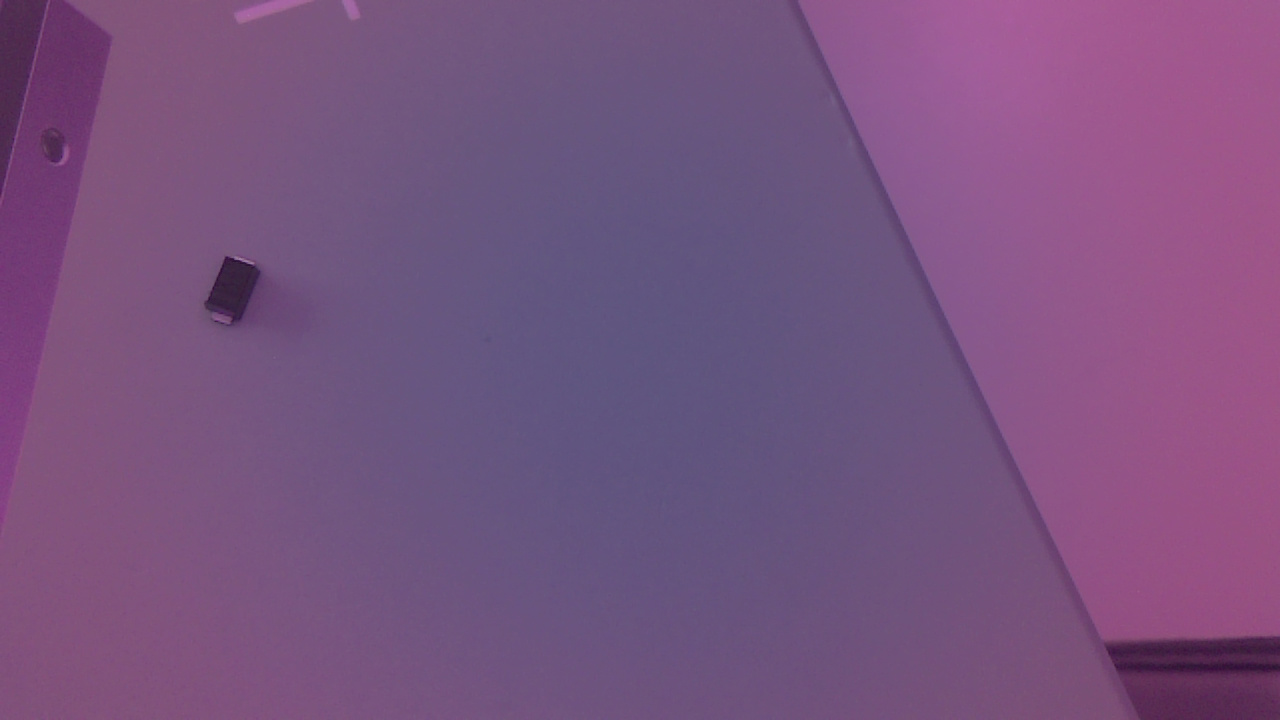Diode: (205, 255, 268, 334)
